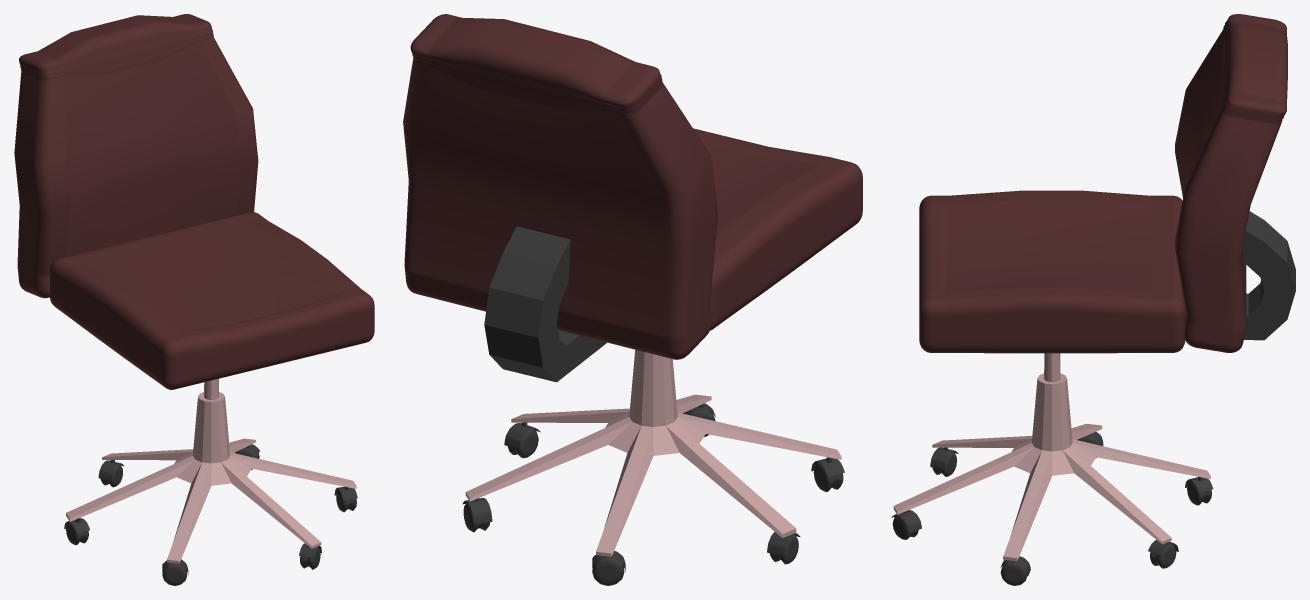
File: Office_Chair.fbx
3 views of the same model, side by side, from view 1: azimuth 30°, elevation 25°; view 2: azimuth 150°, elevation 25°; view 3: azimuth 270°, elevation 25° (orthographic). The views are drawn at different scales.
Visible parts, largest first — view 1: pCube2, pCube1, pCylinder11; view 2: pCube2, pCylinder11, pCube1, pCylinder12; view 3: pCube1, pCube2, pCylinder11, pCylinder12.
Part boxes in pixels (<box>): pCube2: <box>14,14,258,298</box>; pCube1: <box>50,212,374,389</box>; pCylinder11: <box>64,378,357,585</box>; pCube2: <box>403,14,717,359</box>; pCylinder11: <box>462,349,844,585</box>; pCube1: <box>693,128,862,330</box>; pCylinder12: <box>484,226,606,382</box>; pCube1: <box>919,190,1185,353</box>; pCube2: <box>1175,14,1287,352</box>; pCylinder11: <box>891,353,1213,585</box>; pCylinder12: <box>1185,211,1295,340</box>.
Bounding box in the file's own units: 2.05 × 3.37 × 2.61.
